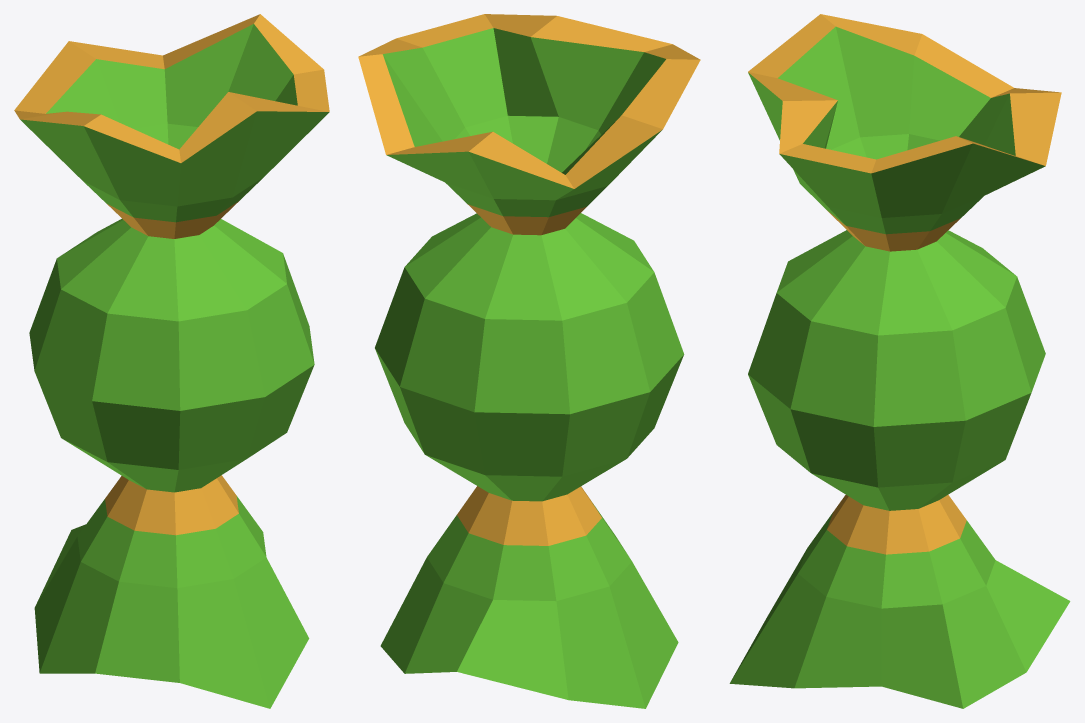
File: SmallSweet.fbx
The picture shows the model from 3 angles, left to right: view 1: azimuth 30°, elevation 25°; view 2: azimuth 150°, elevation 25°; view 3: azimuth 270°, elevation 25°; orthographic projection. The views are drawn at different scales.
Visible parts, largest first — view 1: Circle.092; view 2: Circle.092; view 3: Circle.092.
Boxes of the visible parts, box(x1,y1,x2,y2) form: Circle.092: box(14, 14, 329, 708); Circle.092: box(358, 14, 700, 708); Circle.092: box(729, 14, 1070, 708).
Size of the model in its own units: 162 by 324 by 167.
